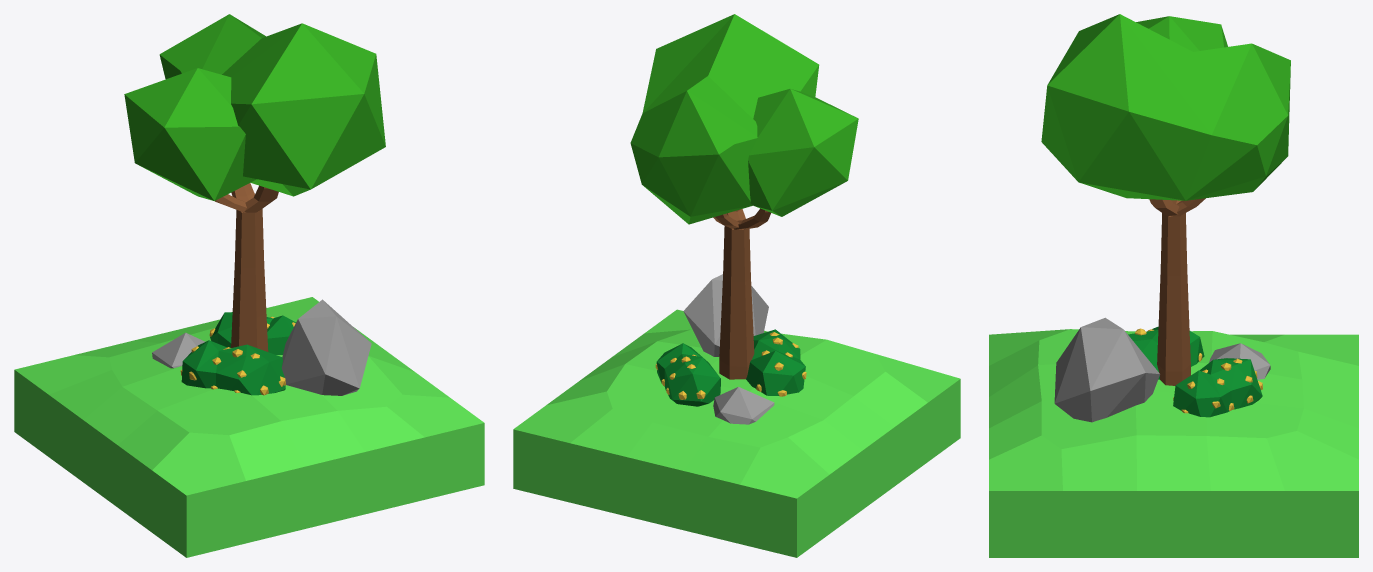
The model's file is test_field_tree.fbx.
The picture shows the model from 3 angles, left to right: view 1: azimuth 30°, elevation 25°; view 2: azimuth 150°, elevation 25°; view 3: azimuth 270°, elevation 25°; orthographic projection. The views are drawn at different scales.
Visible parts, largest first — view 1: Cube; view 2: Cube; view 3: Cube.
Boxes of the visible parts, x1,y1,x2,y2 form: Cube: [14, 14, 484, 557]; Cube: [513, 14, 960, 557]; Cube: [989, 14, 1358, 557].
Bounding box in the file's own units: 1988 × 2849 × 1988.
